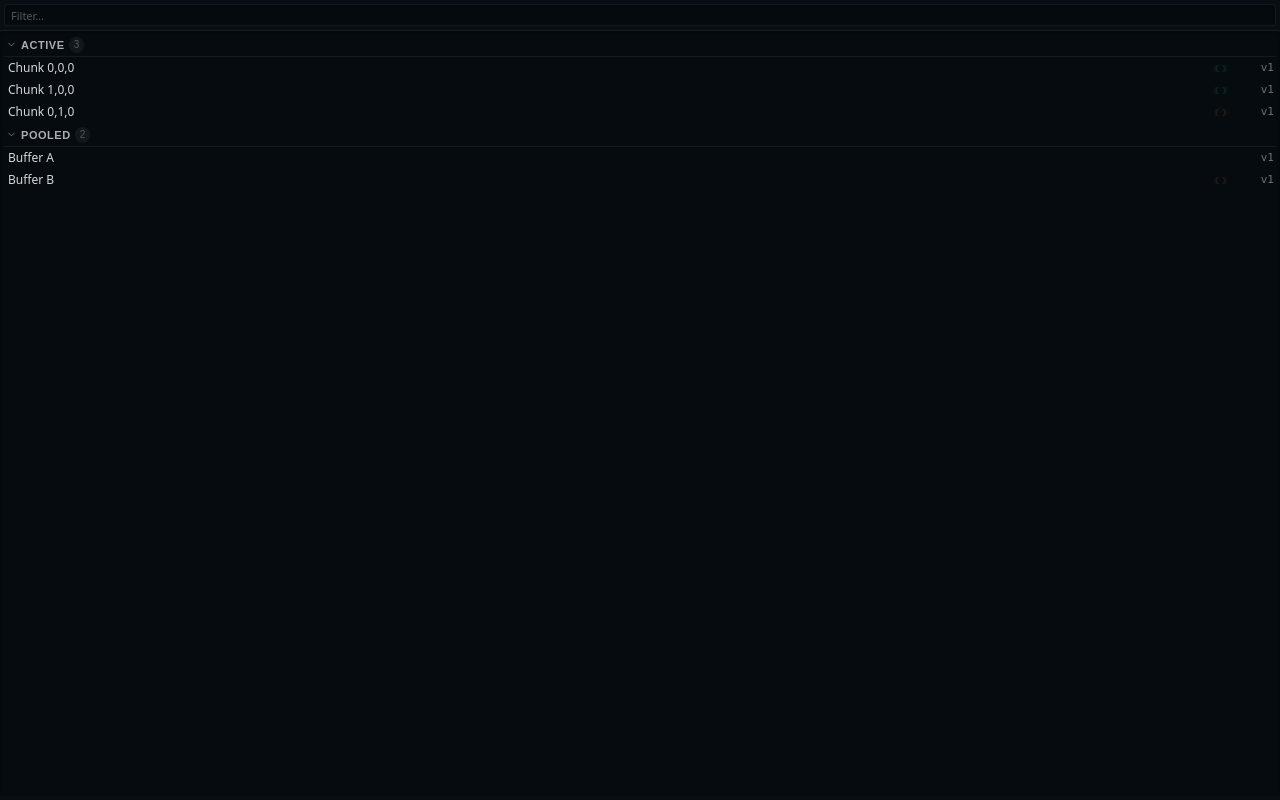
Test case: TreeList — keyboard navigation › Escape clears filter when filter is active
Type "chunk" into the search field with placeholder "Filter…" at (640, 15), box [4,4,1276,26]
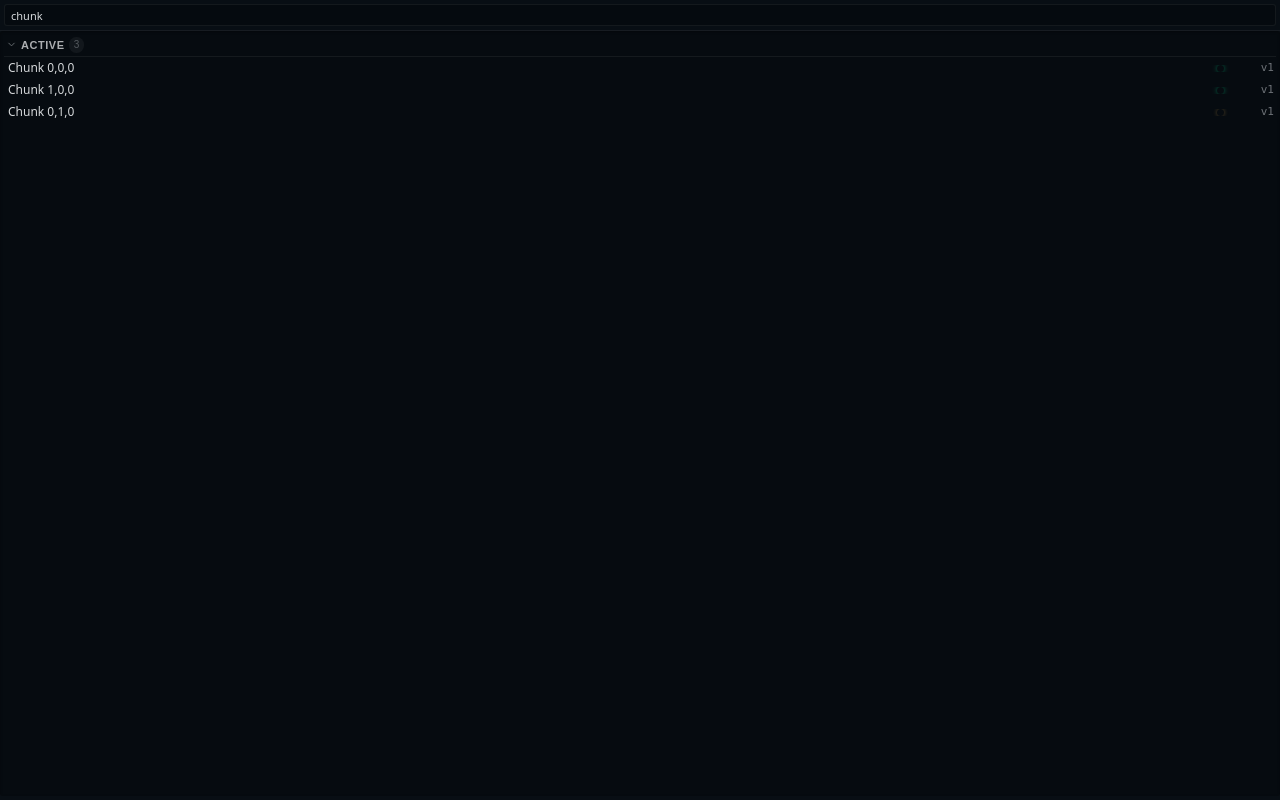
Note: Escape on the treelist container
Press Escape in the element with class "treelist"
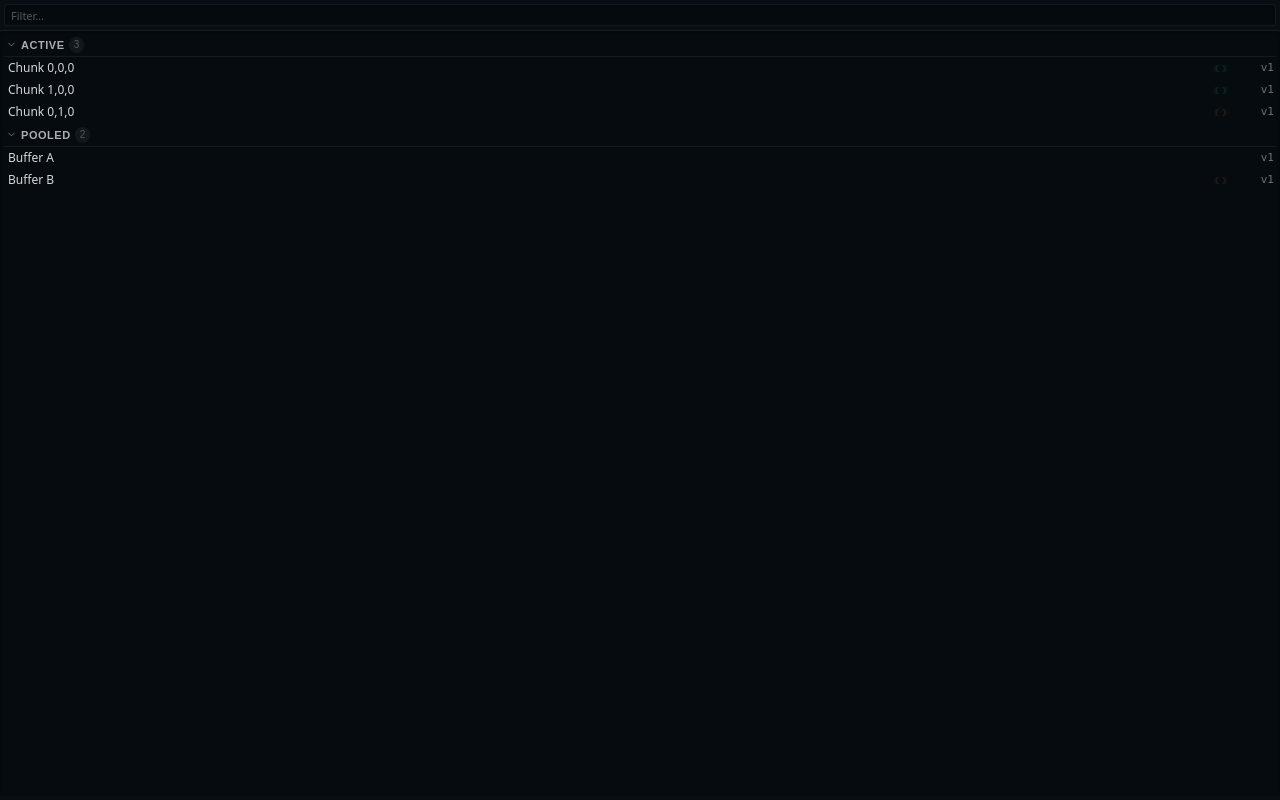
Result: the element showing "Buffer A v1" is shown at [4,147,1276,169]
